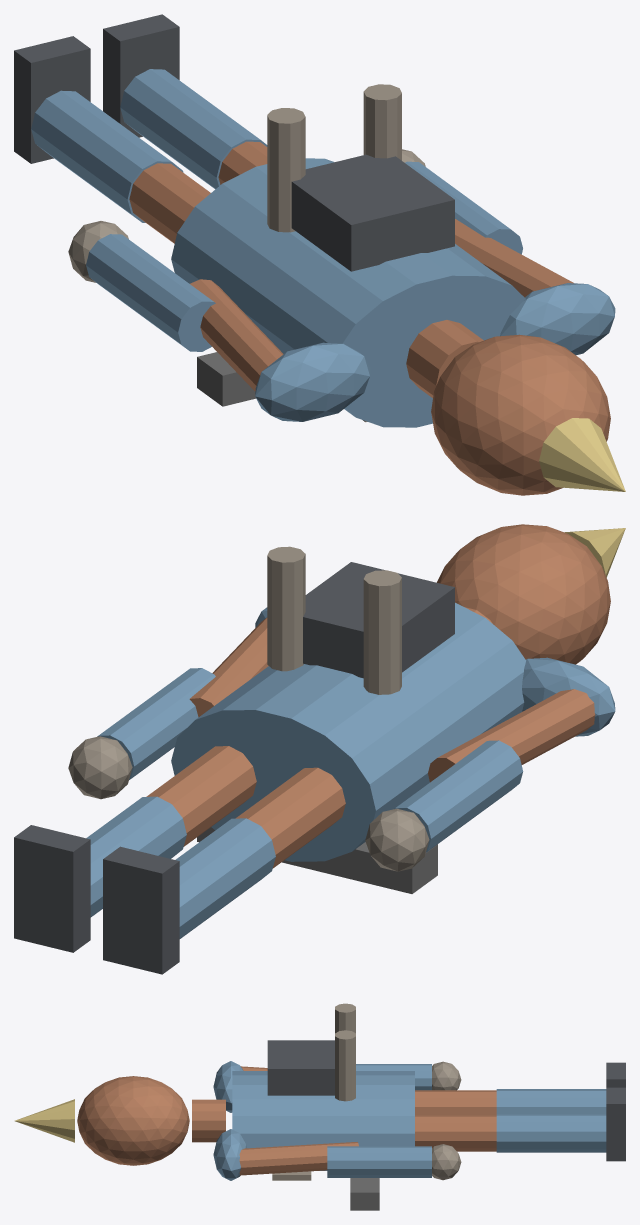
Rendered from SWN-024_brakka_flint.glb.
3 views of the same model, one above another, from view 1: azimuth 30°, elevation 25°; view 2: azimuth 150°, elevation 25°; view 3: azimuth 270°, elevation 25° (orthographic). The views are drawn at different scales.
Parts seen in each view (by area): view 1: body_spine, head, back_thruster_pack, greave_-1, greave_1, forearm_gauntlet_-1, shoulder_plate_-1, boot_-1, shoulder_plate_1, boot_1, ember_hair_flame, upper_arm_-1 (+9 smaller); view 2: body_spine, head, back_thruster_pack, boot_-1, boot_1, greave_-1, forearm_gauntlet_-1, thigh_-1, thigh_1, upper_arm_-1, forearm_gauntlet_1, greave_1 (+8 smaller); view 3: body_spine, head, greave_1, back_thruster_pack, forearm_gauntlet_1, thigh_1, greave_-1, upper_arm_1, thigh_-1, boot_1, aether_thruster_1, neck (+10 smaller).
Boxes of the visible parts, x1=… form: body_spine: x1=171, y1=158, x2=525, y2=427; head: x1=431, y1=334, x2=610, y2=495; back_thruster_pack: x1=291, y1=154, x2=454, y2=271; greave_-1: x1=31, y1=90, x2=183, y2=222; greave_1: x1=120, y1=69, x2=267, y2=189; forearm_gauntlet_-1: x1=86, y1=234, x2=215, y2=351; shoulder_plate_-1: x1=255, y1=342, x2=370, y2=421; boot_-1: x1=14, y1=36, x2=90, y2=163; shoulder_plate_1: x1=500, y1=283, x2=615, y2=355; boot_1: x1=103, y1=14, x2=179, y2=137; ember_hair_flame: x1=539, y1=418, x2=625, y2=491; upper_arm_-1: x1=190, y1=279, x2=283, y2=391; body_spine: x1=171, y1=602, x2=525, y2=861; head: x1=437, y1=524, x2=610, y2=664; back_thruster_pack: x1=303, y1=562, x2=454, y2=678; boot_-1: x1=103, y1=846, x2=179, y2=974; boot_1: x1=14, y1=825, x2=90, y2=952; greave_-1: x1=175, y1=818, x2=275, y2=938; forearm_gauntlet_-1: x1=394, y1=740, x2=523, y2=852; thigh_-1: x1=235, y1=767, x2=345, y2=868; thigh_1: x1=146, y1=746, x2=256, y2=846; upper_arm_-1: x1=428, y1=689, x2=595, y2=782; forearm_gauntlet_1: x1=97, y1=668, x2=215, y2=779; greave_1: x1=86, y1=796, x2=186, y2=917; body_spine: x1=232, y1=1071, x2=414, y2=1170; head: x1=77, y1=1076, x2=189, y2=1165; greave_1: x1=496, y1=1114, x2=606, y2=1152; back_thruster_pack: x1=267, y1=1040, x2=334, y2=1095; forearm_gauntlet_1: x1=327, y1=1146, x2=431, y2=1177; thigh_1: x1=415, y1=1115, x2=496, y2=1151; greave_-1: x1=496, y1=1089, x2=606, y2=1113; upper_arm_1: x1=239, y1=1142, x2=358, y2=1175; thigh_-1: x1=415, y1=1090, x2=496, y2=1114; boot_1: x1=606, y1=1087, x2=625, y2=1161; aether_thruster_1: x1=335, y1=1030, x2=355, y2=1101; neck: x1=192, y1=1099, x2=225, y2=1142.
Bounding box in the file's own units: 0.9708 × 0.72 × 2.51.
